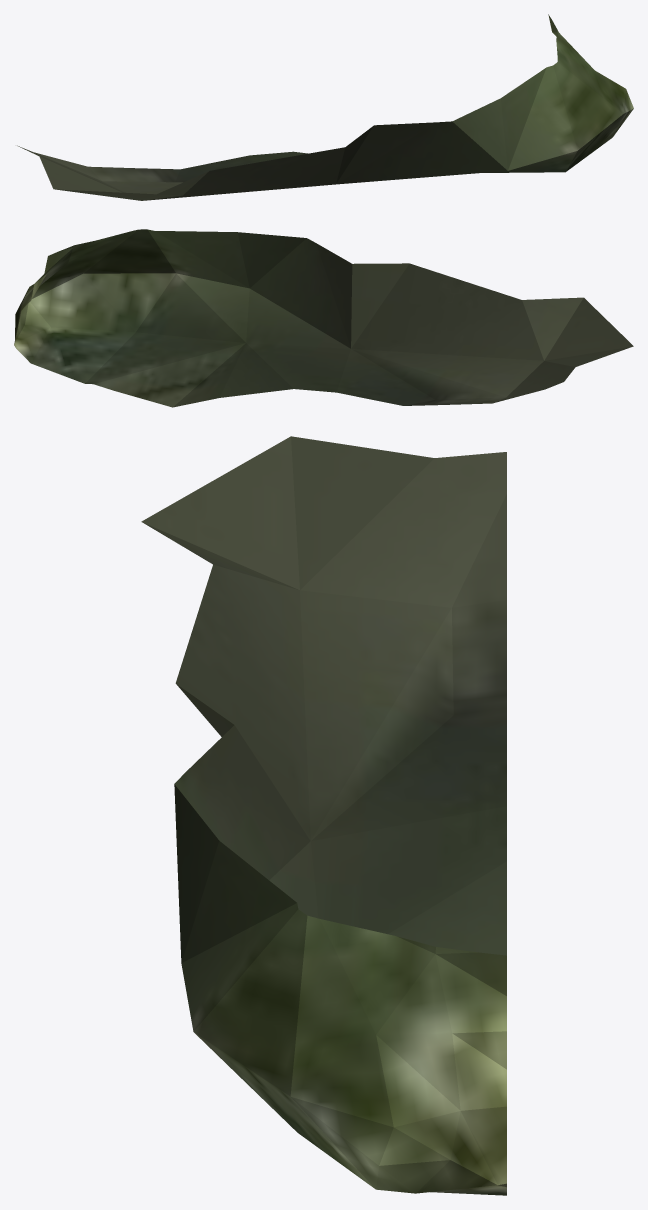
The picture shows the model from 3 angles, top to bottom: view 1: azimuth 30°, elevation 25°; view 2: azimuth 150°, elevation 25°; view 3: azimuth 270°, elevation 25°; orthographic projection. The views are drawn at different scales.
Size of the model in its own units: 1.37 by 0.2723 by 0.3726.
Materials: 1 (1 with a texture image).
